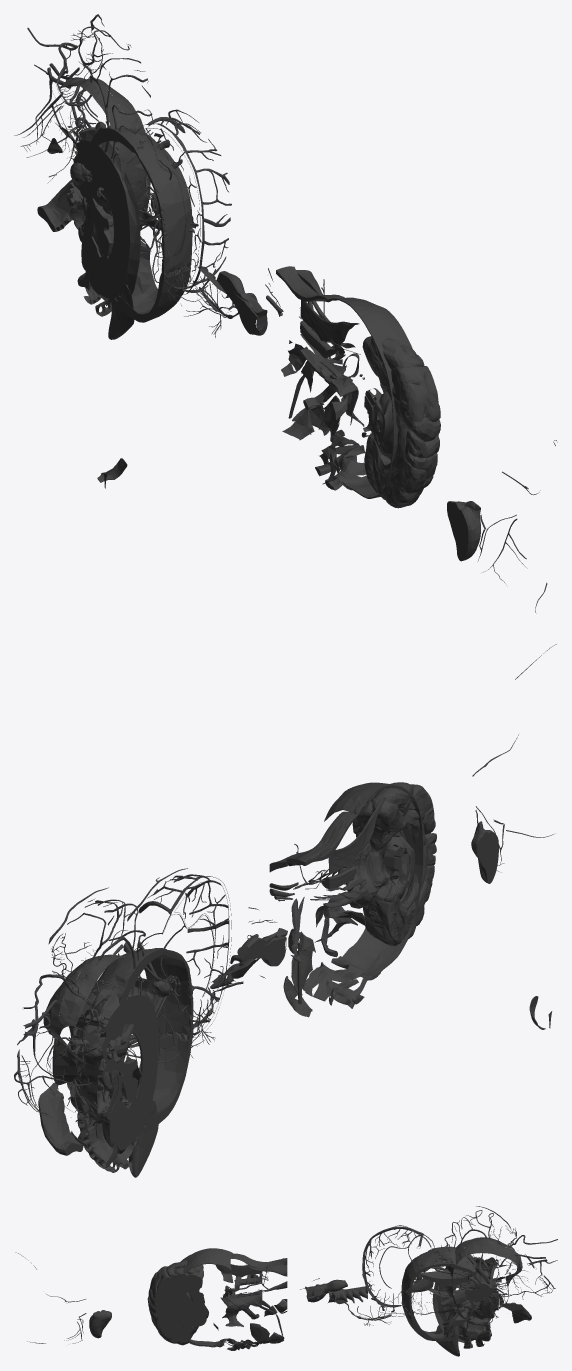
Rendered from sharedassets108.glb.
3 renders of one model, top to bottom at view 1: azimuth 30°, elevation 25°; view 2: azimuth 150°, elevation 25°; view 3: azimuth 270°, elevation 25°, orthographic. The views are drawn at different scales.
Visible parts, largest first — view 1: 0794_Cerebrum, L__002124-01, 0552_Falx cerebri__301645-01, 0260_Parietal, L__001094-01, 0098_Occipitofrontalis _epicranius_, L__10004, 0650_Cerebrum, L__002124-02, 0796_Dura mater, head region__302233-01, 0484_Parietal, L__001094-02, 0645_Tongue__1000432-01, 0165_Frontal__001097-01, 0534_Frontal__001097-02, 0279_Nuchal ligament__002444-01, 0289_Dura mater__020364-02 (+8 smaller); view 2: 0794_Cerebrum, L__002124-01, 0552_Falx cerebri__301645-01, 0796_Dura mater, head region__302233-01, 0098_Occipitofrontalis _epicranius_, L__10004, 0165_Frontal__001097-01, 0260_Parietal, L__001094-01, 0650_Cerebrum, L__002124-02, 0289_Dura mater__020364-02, 0177_Occipital__001132-01, 0641_Trapezius, L__1000436-01, 0595_Occipitofrontalis _epicranius_, L__10004, 0645_Tongue__1000432-01 (+7 smaller); view 3: 0650_Cerebrum, L__002124-02, 0289_Dura mater__020364-02, 0484_Parietal, L__001094-02, 0595_Occipitofrontalis _epicranius_, L__10004, 0552_Falx cerebri__301645-01, 0263_Splenius capitis, L__1000389-02, 0528_Occipital__001132-02, 0339_Nasal cavity__001366-01, 0559_Maxilla, L_ body_001063_004-02, 0796_Dura mater, head region__302233-01, 0098_Occipitofrontalis _epicranius_, L__10004, 0645_Tongue__1000432-01 (+21 smaller).
Part boxes in pixels (x1,y1,x2,y2): 0794_Cerebrum, L__002124-01: [362, 336, 428, 508]; 0552_Falx cerebri__301645-01: [79, 129, 140, 304]; 0260_Parietal, L__001094-01: [134, 141, 180, 274]; 0098_Occipitofrontalis _epicranius_, L__10004: [328, 297, 398, 498]; 0650_Cerebrum, L__002124-02: [393, 339, 440, 501]; 0796_Dura mater, head region__302233-01: [58, 77, 138, 204]; 0484_Parietal, L__001094-02: [147, 139, 192, 269]; 0645_Tongue__1000432-01: [447, 501, 480, 561]; 0165_Frontal__001097-01: [114, 269, 179, 322]; 0534_Frontal__001097-02: [136, 251, 190, 311]; 0279_Nuchal ligament__002444-01: [300, 294, 359, 345]; 0289_Dura mater__020364-02: [80, 77, 150, 228]; 0794_Cerebrum, L__002124-01: [365, 782, 436, 946]; 0552_Falx cerebri__301645-01: [99, 986, 158, 1153]; 0796_Dura mater, head region__302233-01: [58, 954, 129, 1120]; 0098_Occipitofrontalis _epicranius_, L__10004: [342, 782, 423, 977]; 0165_Frontal__001097-01: [142, 1031, 193, 1132]; 0260_Parietal, L__001094-01: [159, 948, 193, 1035]; 0650_Cerebrum, L__002124-02: [346, 788, 383, 941]; 0289_Dura mater__020364-02: [43, 958, 91, 1116]; 0177_Occipital__001132-01: [98, 948, 163, 1068]; 0641_Trapezius, L__1000436-01: [286, 811, 357, 866]; 0595_Occipitofrontalis _epicranius_, L__10004: [324, 782, 383, 968]; 0645_Tongue__1000432-01: [471, 821, 498, 883]; 0650_Cerebrum, L__002124-02: [149, 1263, 208, 1345]; 0289_Dura mater__020364-02: [447, 1241, 519, 1325]; 0484_Parietal, L__001094-02: [404, 1255, 451, 1315]; 0595_Occipitofrontalis _epicranius_, L__10004: [173, 1255, 231, 1347]; 0552_Falx cerebri__301645-01: [432, 1261, 491, 1342]; 0263_Splenius capitis, L__1000389-02: [419, 1268, 467, 1286]; 0528_Occipital__001132-02: [438, 1252, 481, 1290]; 0339_Nasal cavity__001366-01: [435, 1313, 459, 1356]; 0559_Maxilla, L_ body_001063_004-02: [466, 1316, 490, 1340]; 0796_Dura mater, head region__302233-01: [445, 1237, 522, 1318]; 0098_Occipitofrontalis _epicranius_, L__10004: [181, 1248, 233, 1346]; 0645_Tongue__1000432-01: [89, 1310, 111, 1338].
Size of the model in its own units: 0.1228 by 0.1442 by 0.4643.
Materials: 1 (1 with a texture image).
